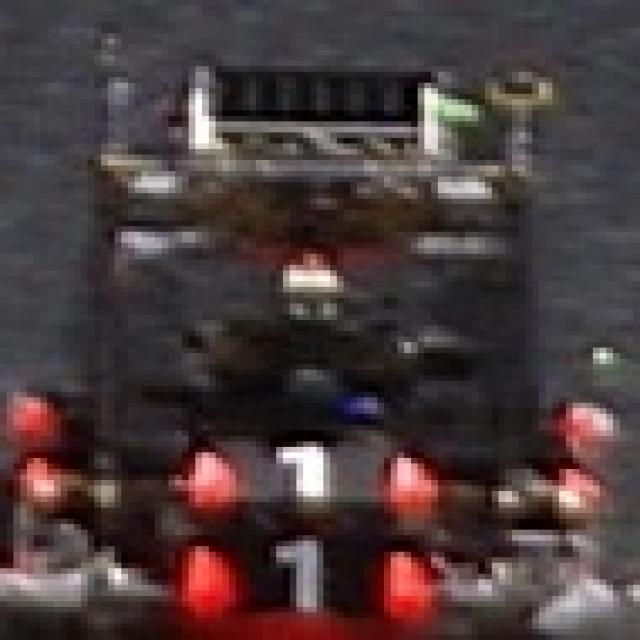R1: (175, 535, 425, 624), (175, 430, 418, 519)
